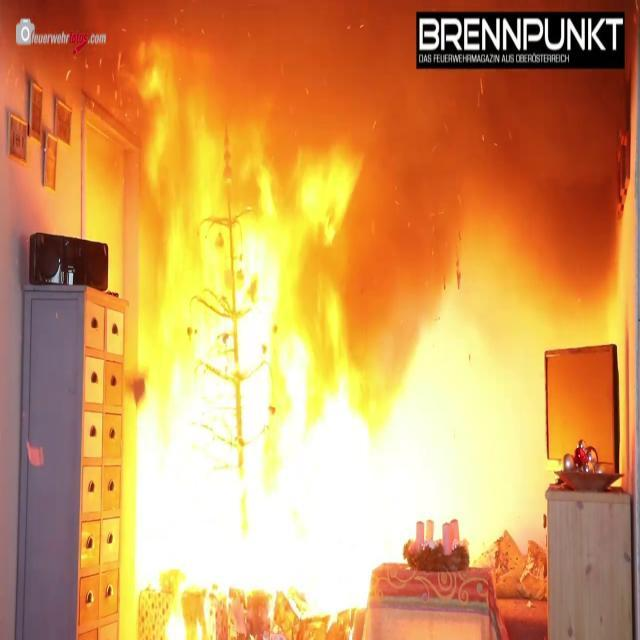Fire: (120, 78, 606, 610)
